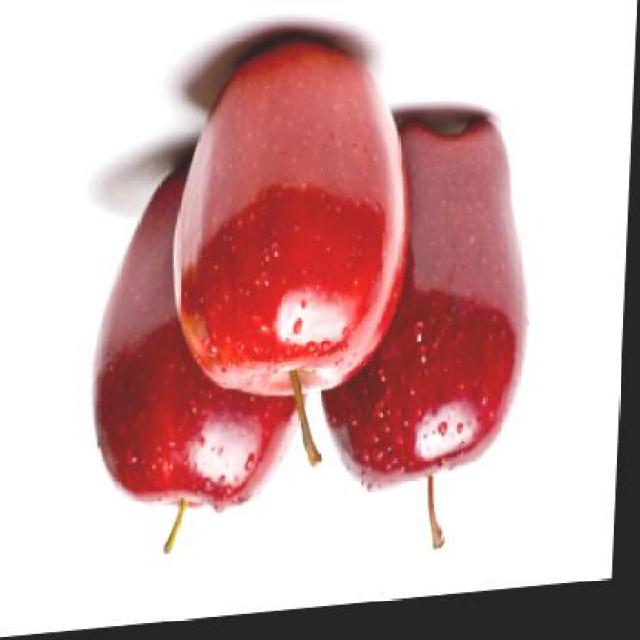Fresh Apple: (174, 44, 407, 402), (333, 101, 513, 482), (97, 166, 272, 508)
